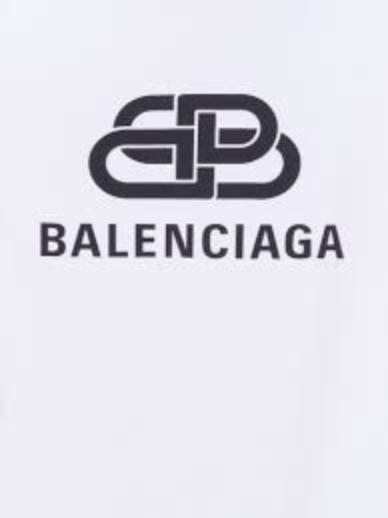BALENCIAGA: (86, 90, 306, 206), (34, 218, 344, 264)
